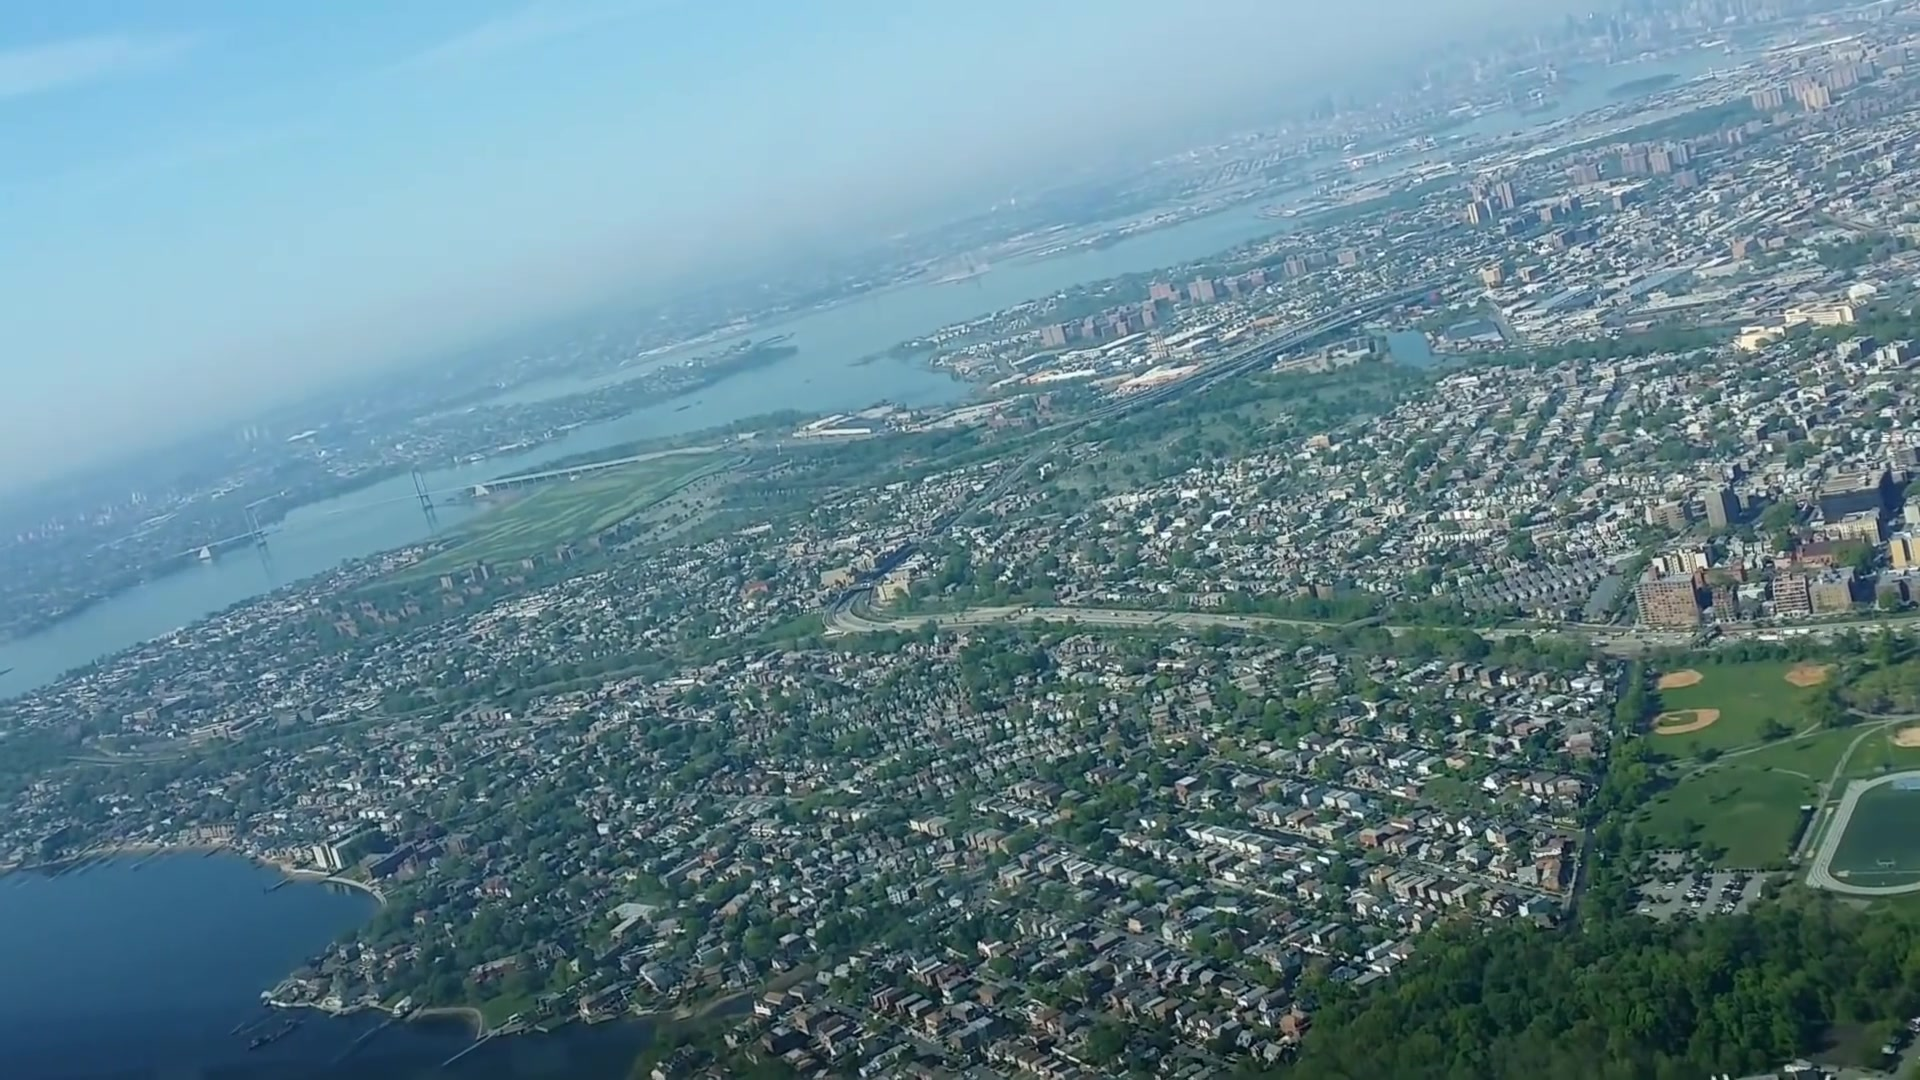runway: (956, 249, 984, 280)
